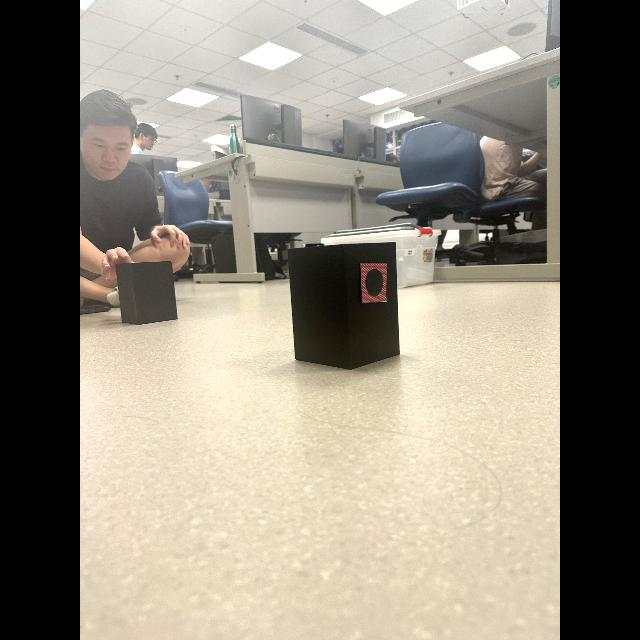CIRCLE: (366, 268, 383, 297)
